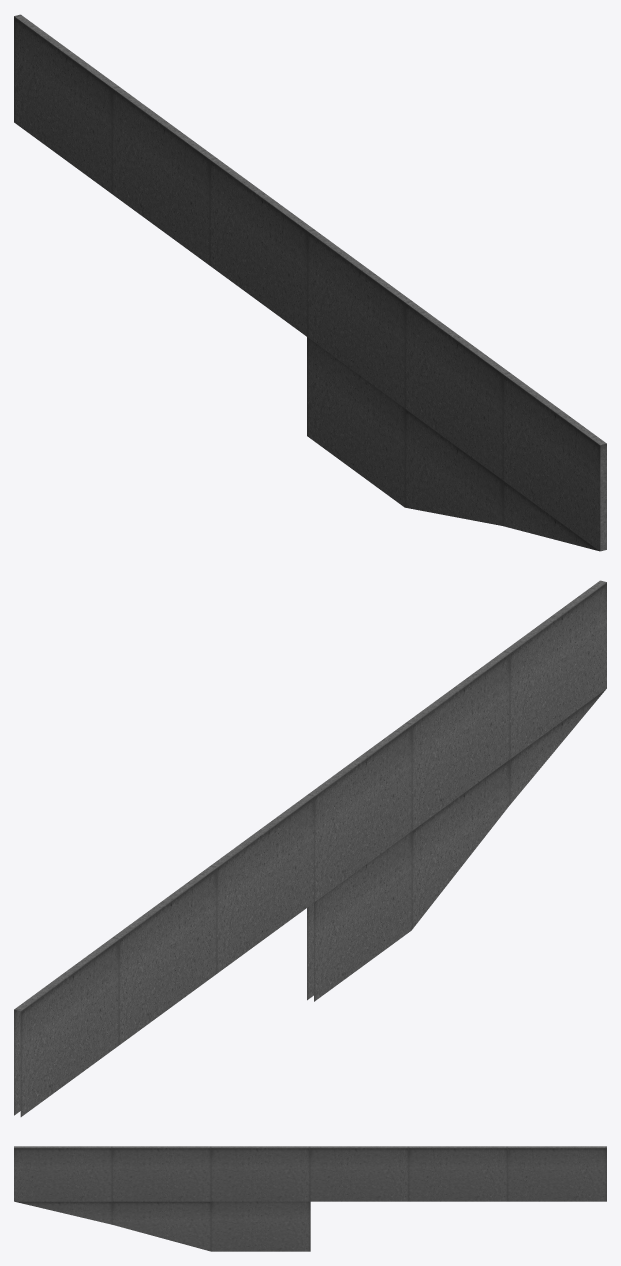
File: DivisoriaPredios.FBX
The picture shows the model from 3 angles, top to bottom: view 1: azimuth 30°, elevation 25°; view 2: azimuth 150°, elevation 25°; view 3: azimuth 270°, elevation 25°; orthographic projection. The views are drawn at different scales.
Parts seen in each view (by area): view 1: DivisoriaPredios; view 2: DivisoriaPredios; view 3: DivisoriaPredios.
Part boxes in pixels (<box>): DivisoriaPredios: <box>14,14,606,551</box>; DivisoriaPredios: <box>14,580,606,1116</box>; DivisoriaPredios: <box>14,1146,606,1251</box>.
Bounding box in the file's own units: 20 × 580 × 3000.
1 material, 1 textured.
